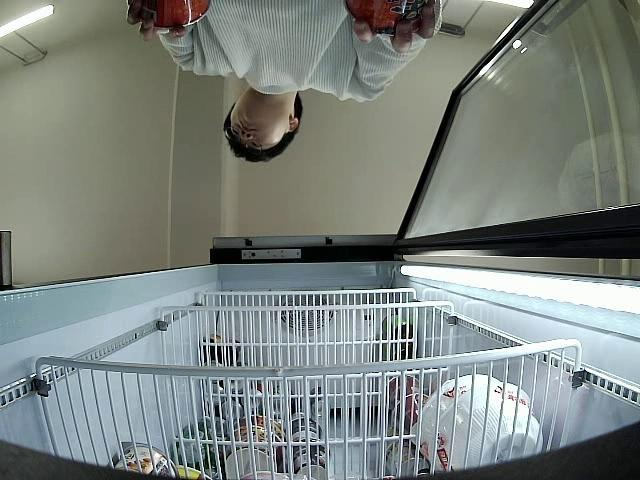02_shinRamen_S: (344, 0, 435, 35), (126, 0, 210, 29)
